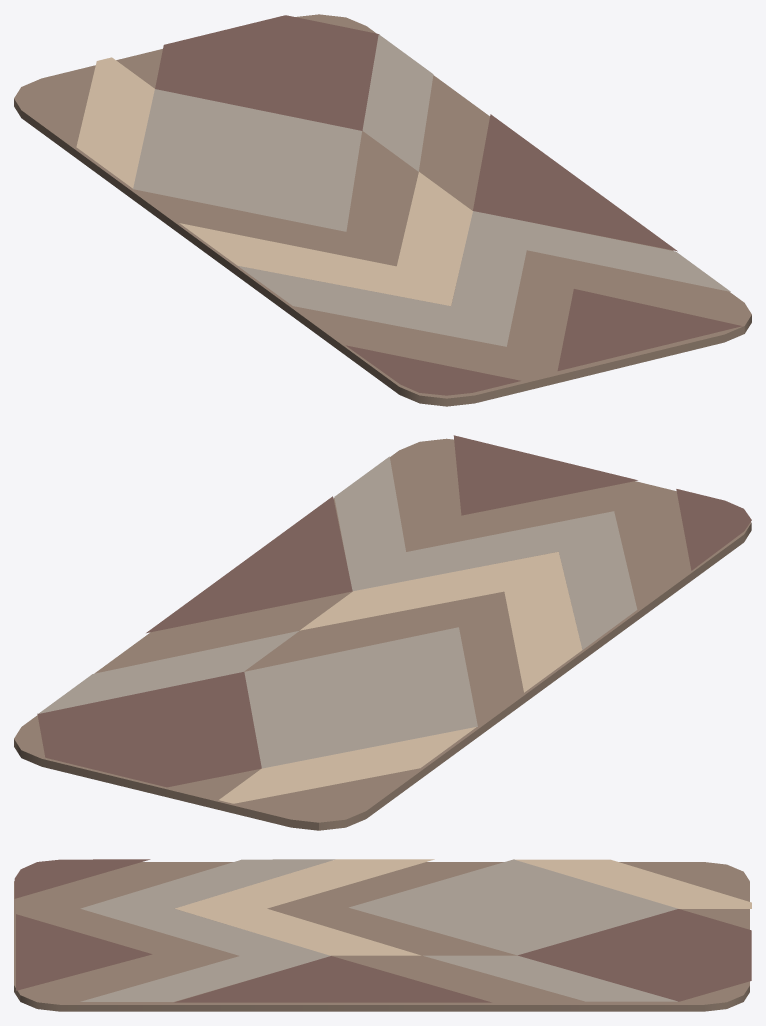
The model's file is triangle-pattern-rug-transformed.glb.
3 views of the same model, one above another, from view 1: azimuth 30°, elevation 25°; view 2: azimuth 150°, elevation 25°; view 3: azimuth 270°, elevation 25° (orthographic). The views are drawn at different scales.
Parts seen in each view (by area): view 1: Rectangle 12.002, Merged Geometry 10.003, Merged Geometry 11.003, Merged Geometry 12.001; view 2: Rectangle 12.002, Merged Geometry 10.003, Merged Geometry 11.003, Merged Geometry 12.001; view 3: Rectangle 12.002, Merged Geometry 10.003, Merged Geometry 11.003, Merged Geometry 12.001.
Boxes of the visible parts, x1,y1,x2,y2 form: Rectangle 12.002: [14, 14, 751, 406]; Merged Geometry 10.003: [133, 34, 730, 346]; Merged Geometry 11.003: [155, 15, 742, 395]; Merged Geometry 12.001: [76, 57, 472, 305]; Rectangle 12.002: [14, 438, 751, 830]; Merged Geometry 10.003: [38, 456, 637, 768]; Merged Geometry 11.003: [37, 435, 751, 787]; Merged Geometry 12.001: [219, 552, 582, 803]; Rectangle 12.002: [14, 862, 749, 1011]; Merged Geometry 10.003: [80, 859, 678, 1001]; Merged Geometry 11.003: [14, 859, 751, 1002]; Merged Geometry 12.001: [175, 859, 751, 955].
Bounding box in the file's own units: 1.81 × 0.0543 × 3.94.
